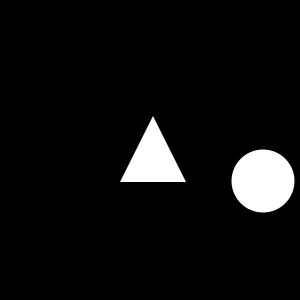rectangle: (232, 150, 294, 212)
triangle: (120, 116, 186, 182)
